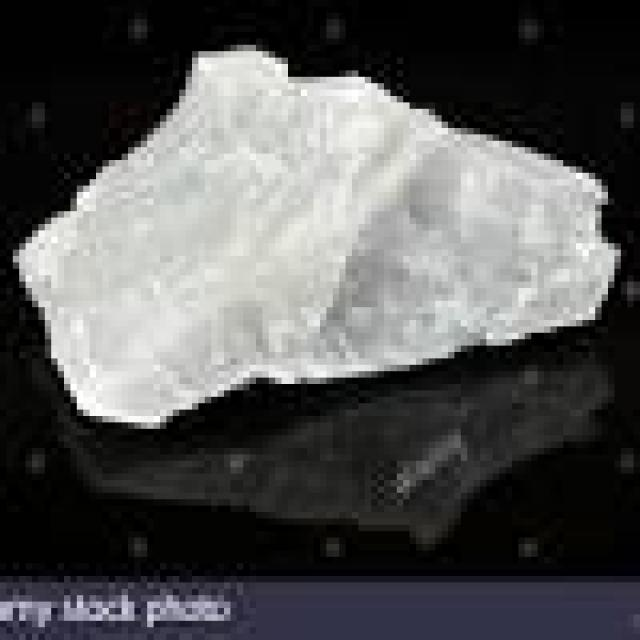Metamorphic: (13, 39, 621, 442)
